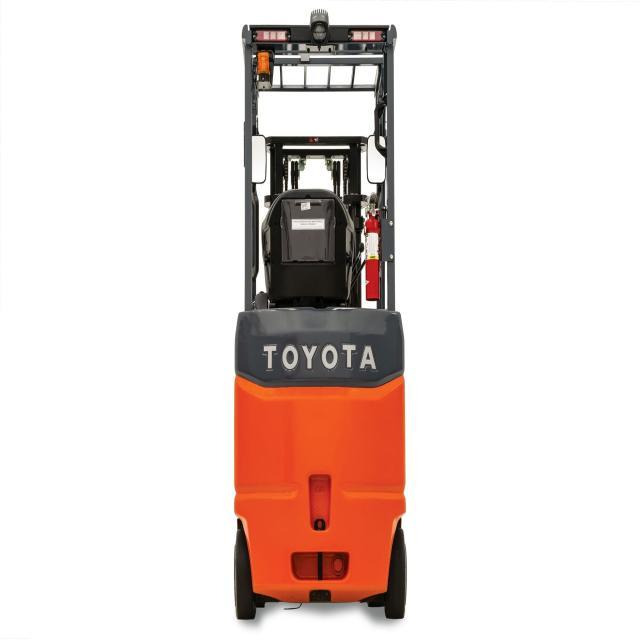forklift: (222, 11, 406, 616)
